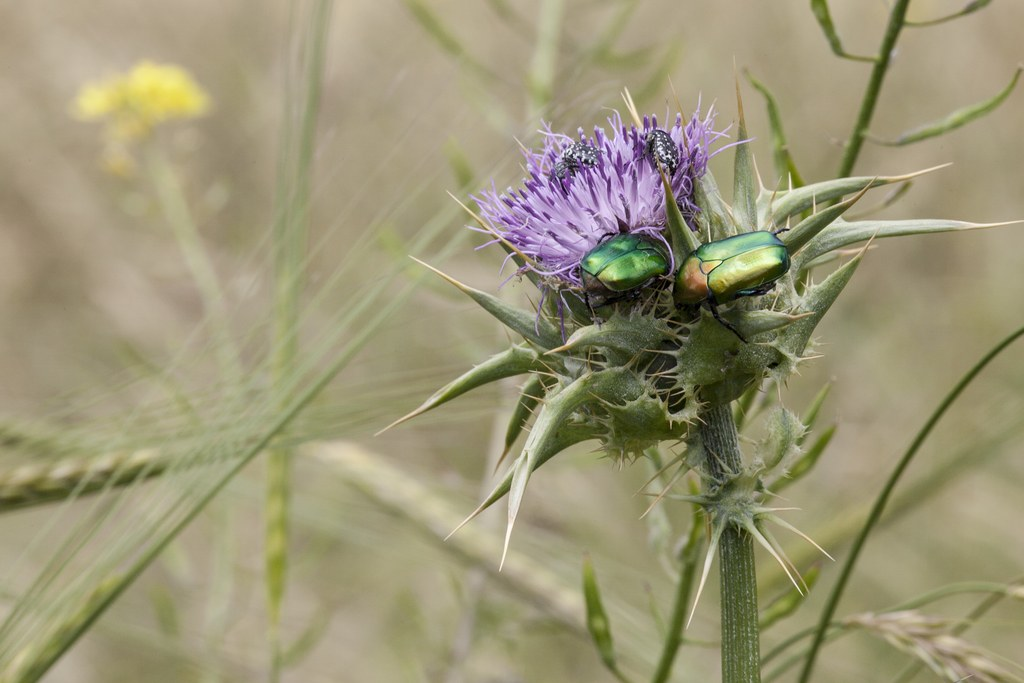insect: (458, 76, 753, 297), (673, 231, 797, 346), (569, 231, 671, 332), (133, 58, 214, 118), (65, 68, 135, 119)
